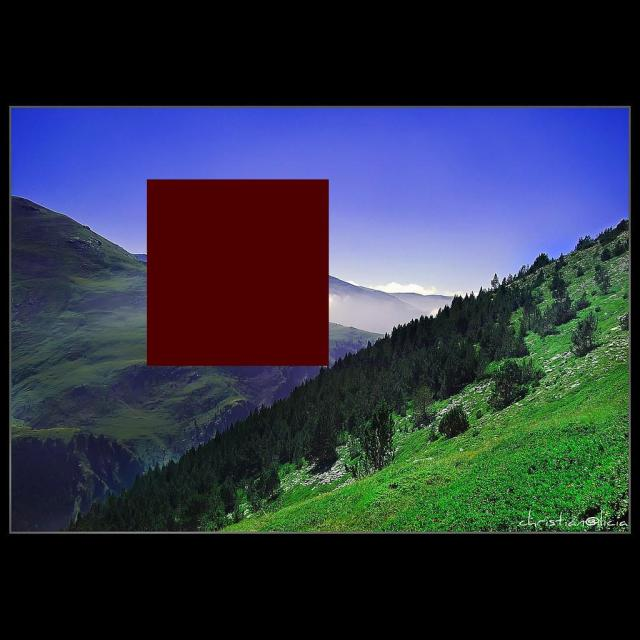RedSquare: (141, 169, 335, 374)
